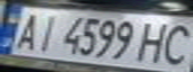4: (57, 14, 84, 56)
5: (75, 15, 100, 57)
9: (112, 17, 142, 62), (96, 16, 121, 60)
A: (9, 9, 45, 52)
C: (154, 20, 193, 68)
H: (133, 18, 175, 64)
I: (30, 11, 63, 53)
